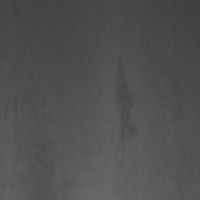inclusion: (105, 54, 144, 168)
